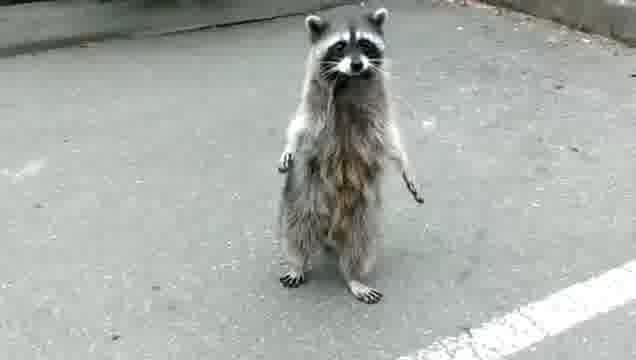raccoon: (274, 6, 425, 306)
